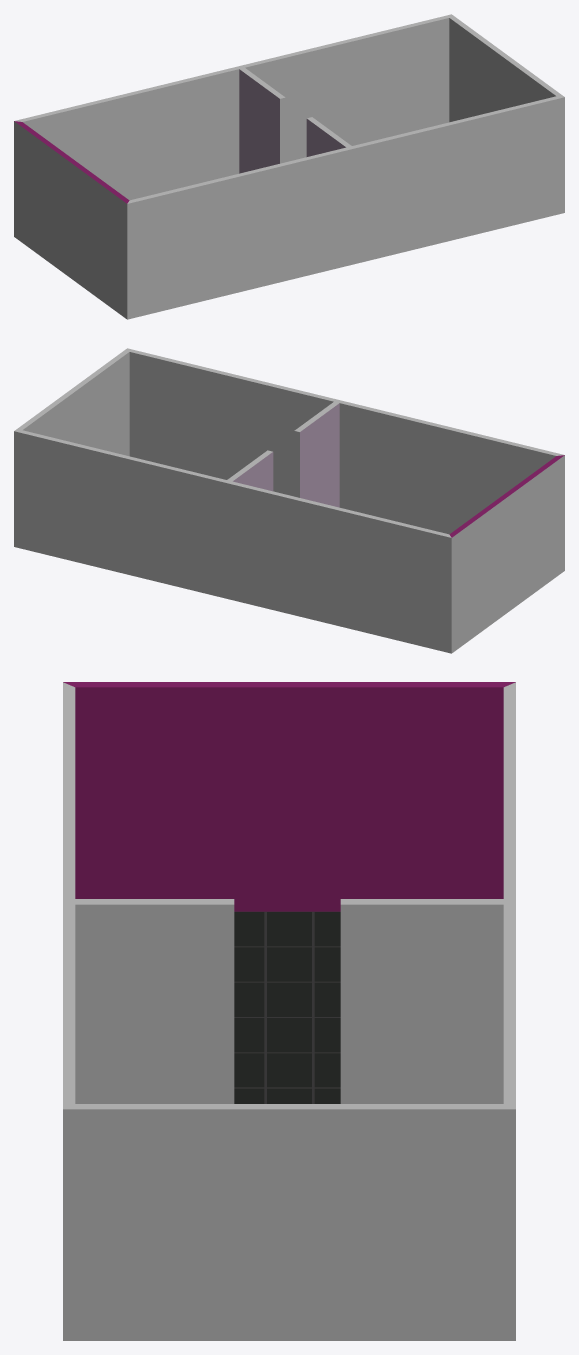
The model's file is Huoneet.fbx.
3 views of the same model, one above another, from view 1: azimuth 30°, elevation 25°; view 2: azimuth 150°, elevation 25°; view 3: azimuth 270°, elevation 25° (orthographic). The views are drawn at different scales.
Visible parts, largest first — view 1: Seinät; view 2: Seinät; view 3: Seinät.
Part boxes in pixels (bbox=[...]): Seinät: bbox=[14, 14, 564, 319]; Seinät: bbox=[14, 348, 564, 653]; Seinät: bbox=[63, 682, 515, 1340].
Bounding box in the file's own units: 2222 × 561 × 996.
